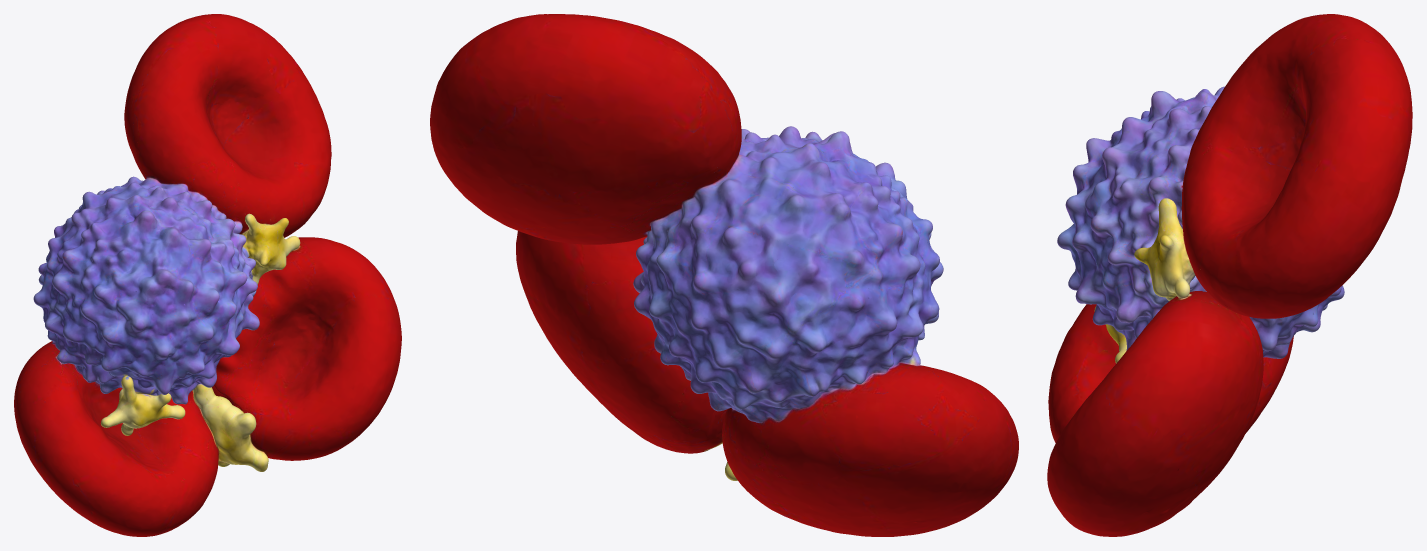
The model's file is blood-cells.glb.
The picture shows the model from 3 angles, left to right: view 1: azimuth 30°, elevation 25°; view 2: azimuth 150°, elevation 25°; view 3: azimuth 270°, elevation 25°; orthographic projection. The views are drawn at different scales.
Visible parts, largest first — view 1: blood-cells; view 2: blood-cells; view 3: blood-cells.
Boxes of the visible parts, x1,y1,x2,y2 form: blood-cells: (14, 14, 401, 536); blood-cells: (430, 14, 1018, 536); blood-cells: (1047, 14, 1412, 536).
Bounding box in the file's own units: 0.2756 × 0.3 × 0.1853.
1 material, 1 textured.
